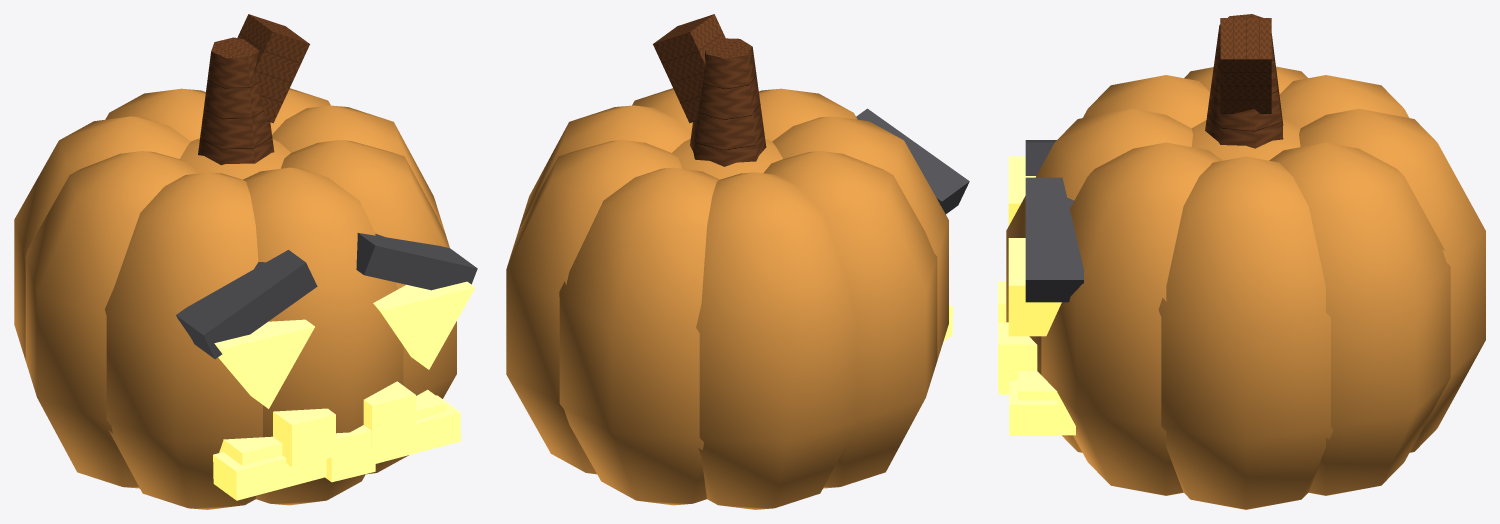
Rendered from jack-o-lantern-scowl.glb.
The picture shows the model from 3 angles, left to right: view 1: azimuth 30°, elevation 25°; view 2: azimuth 150°, elevation 25°; view 3: azimuth 270°, elevation 25°; orthographic projection. The views are drawn at different scales.
Visible parts, largest first — view 1: jack-o-lantern-scowl; view 2: jack-o-lantern-scowl; view 3: jack-o-lantern-scowl.
Part boxes in pixels (<box>): jack-o-lantern-scowl: <box>14,14,477,509</box>; jack-o-lantern-scowl: <box>506,14,969,509</box>; jack-o-lantern-scowl: <box>998,14,1485,509</box>.
Bounding box in the file's own units: 0.4953 × 0.521 × 0.5038.
4 materials, 1 textured.
